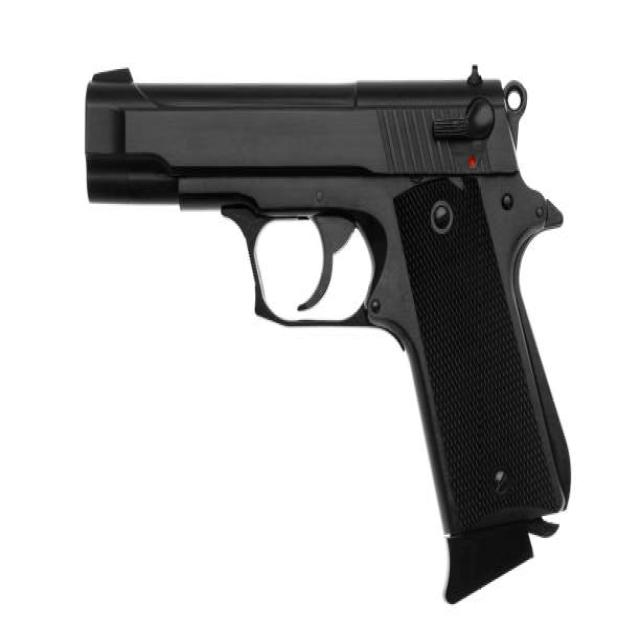pistol: (76, 58, 581, 613)
